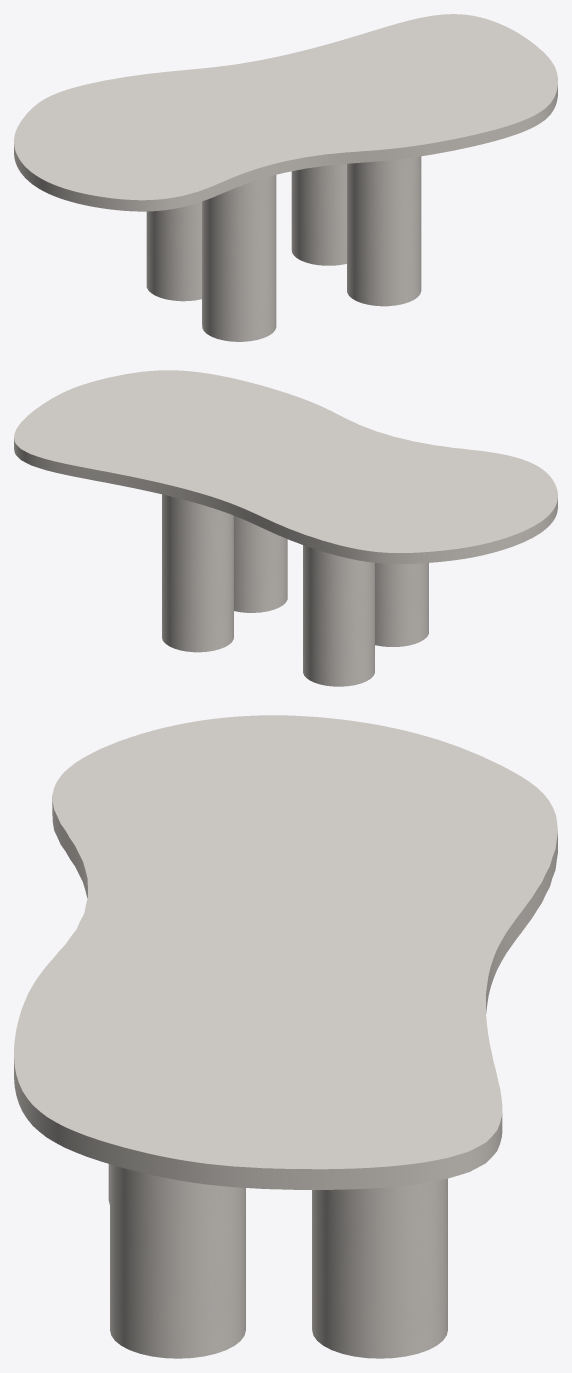
File: pearlwhite_wave_standard_grove.glb
3 views of the same model, one above another, from view 1: azimuth 30°, elevation 25°; view 2: azimuth 150°, elevation 25°; view 3: azimuth 270°, elevation 25° (orthographic). The views are drawn at different scales.
Visible parts, largest first — view 1: standard_wave, grove; view 2: standard_wave, grove; view 3: standard_wave, grove.
Part boxes in pixels (x1,y1,x2,y2): standard_wave: (14, 14, 557, 211); grove: (146, 156, 421, 341); standard_wave: (14, 370, 557, 564); grove: (162, 494, 428, 686); standard_wave: (14, 715, 557, 1189); grove: (108, 1164, 447, 1358).
Size of the model in its own units: 7.5 by 2.5 by 3.8.
1 material, 1 textured.
